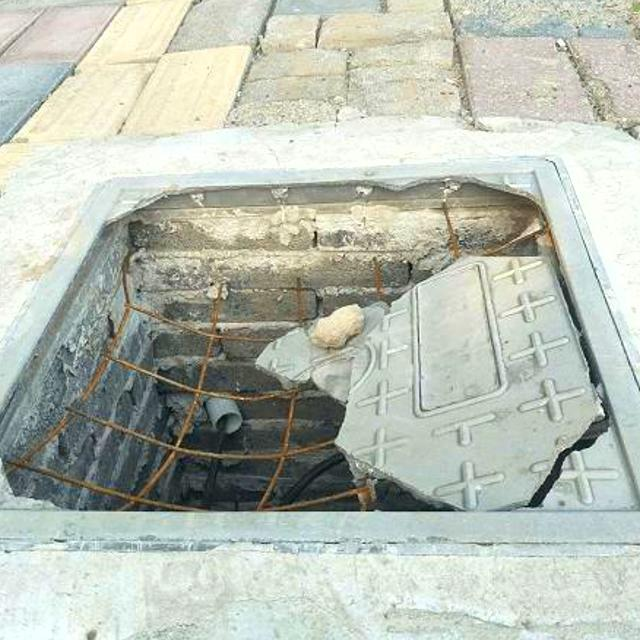broke: (0, 144, 640, 597)
